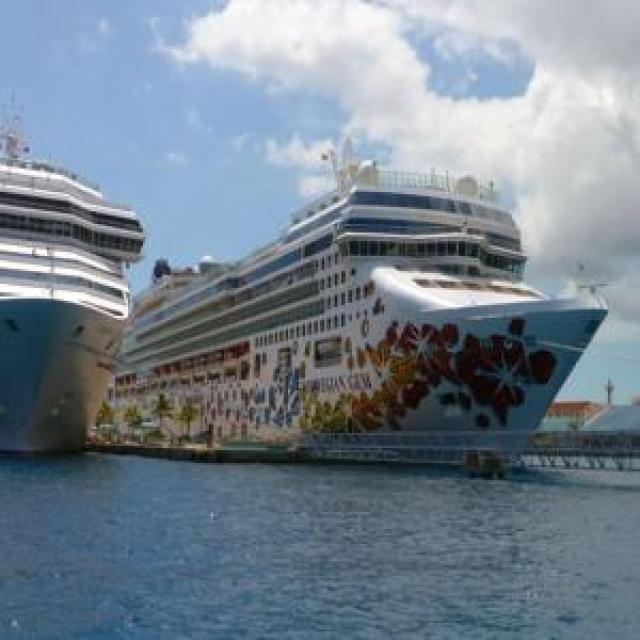passenger ship: (125, 148, 608, 474), (0, 116, 136, 463)
